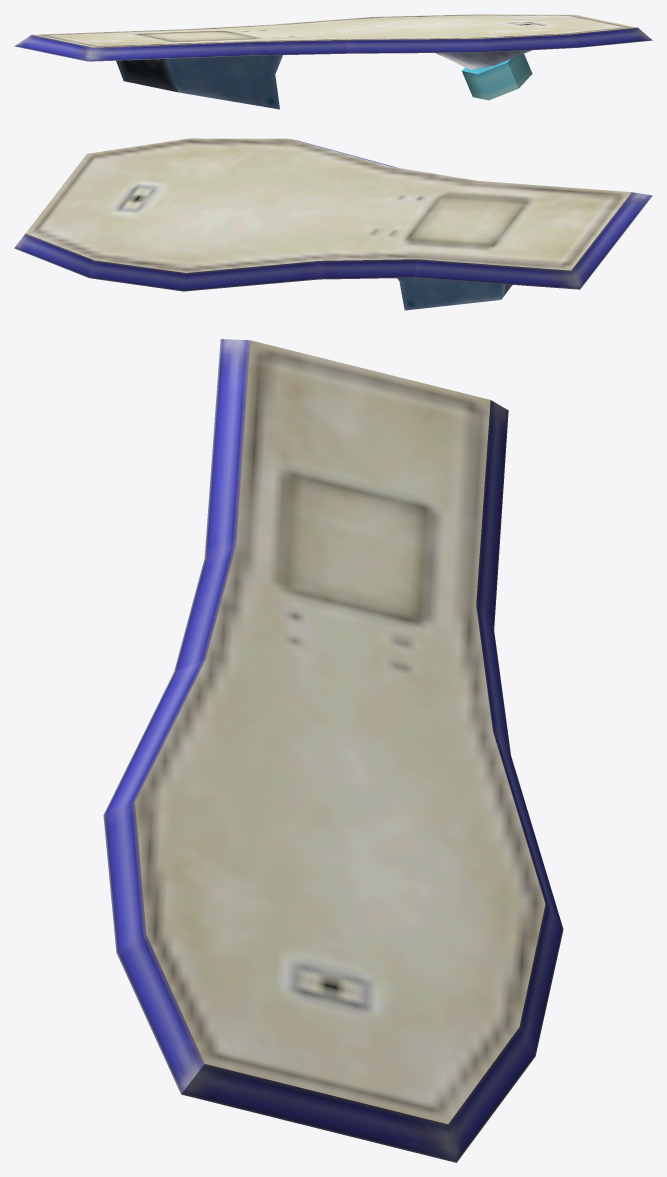
The model's file is eureka_vol01_cpy.ico.obj.
3 views of the same model, one above another, from view 1: azimuth 30°, elevation 25°; view 2: azimuth 150°, elevation 25°; view 3: azimuth 270°, elevation 25° (orthographic). The views are drawn at different scales.
Bounding box in the file's own units: 3.61 × 0.9963 × 1.29.
Materials: 1 (1 with a texture image).
